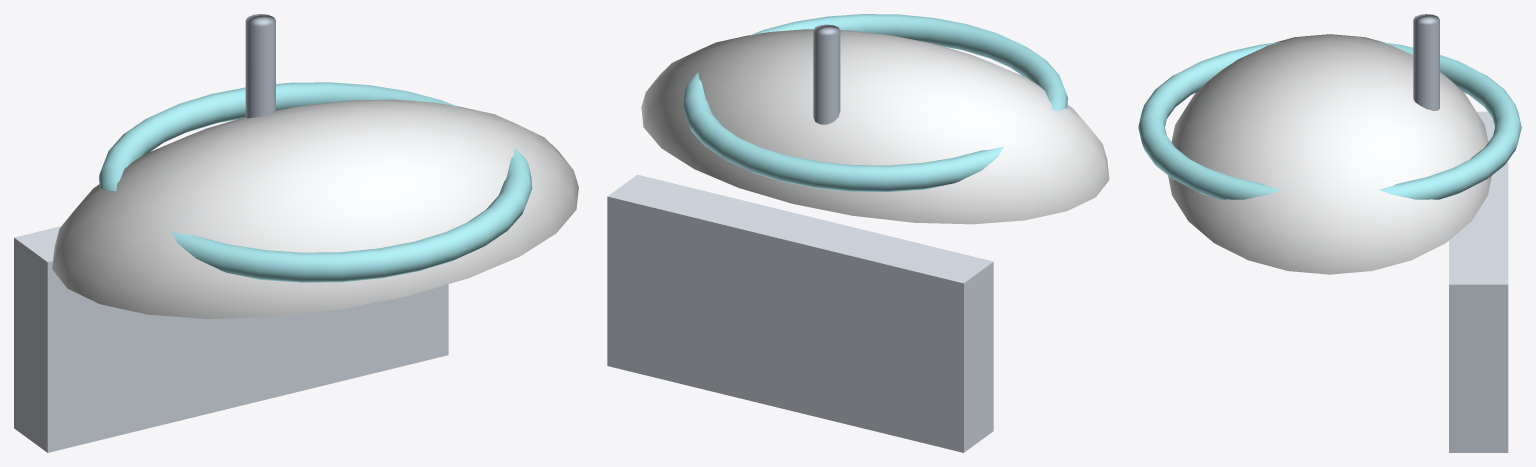
File: washbasin.glb
The picture shows the model from 3 angles, left to right: view 1: azimuth 30°, elevation 25°; view 2: azimuth 150°, elevation 25°; view 3: azimuth 270°, elevation 25°; orthographic projection. The views are drawn at different scales.
Visible parts, largest first — view 1: deep wall hung basin bowl, wall bracket panel, thin blue basin rim, short faucet stem; view 2: wall bracket panel, deep wall hung basin bowl, thin blue basin rim, short faucet stem; view 3: deep wall hung basin bowl, wall bracket panel, thin blue basin rim, short faucet stem.
Part boxes in pixels (<box>): deep wall hung basin bowl: <box>52,99,578,318</box>; wall bracket panel: <box>14,226,448,452</box>; thin blue basin rim: <box>99,82,532,282</box>; short faucet stem: <box>245,14,275,118</box>; wall bracket panel: <box>607,174,993,452</box>; deep wall hung basin bowl: <box>641,29,1109,224</box>; thin blue basin rim: <box>683,14,1067,192</box>; short faucet stem: <box>813,24,840,124</box>; deep wall hung basin bowl: <box>1168,34,1491,274</box>; wall bracket panel: <box>1449,111,1508,452</box>; thin blue basin rim: <box>1138,42,1521,199</box>; short faucet stem: <box>1413,14,1439,110</box>.
Bounding box in the file's own units: 0.68 × 0.515 × 0.516.
